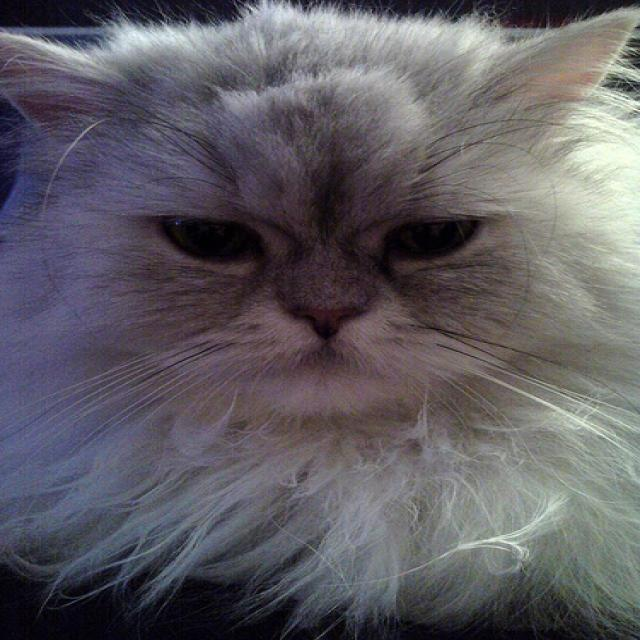Persian: (0, 3, 638, 409)
